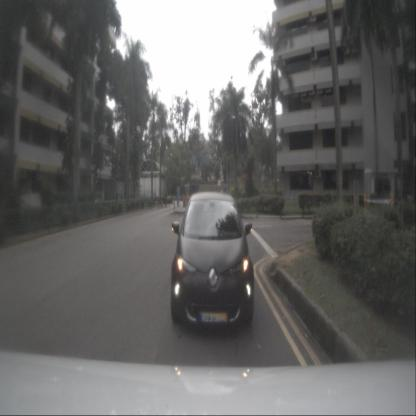vehicle-car: (171, 191, 254, 326)
